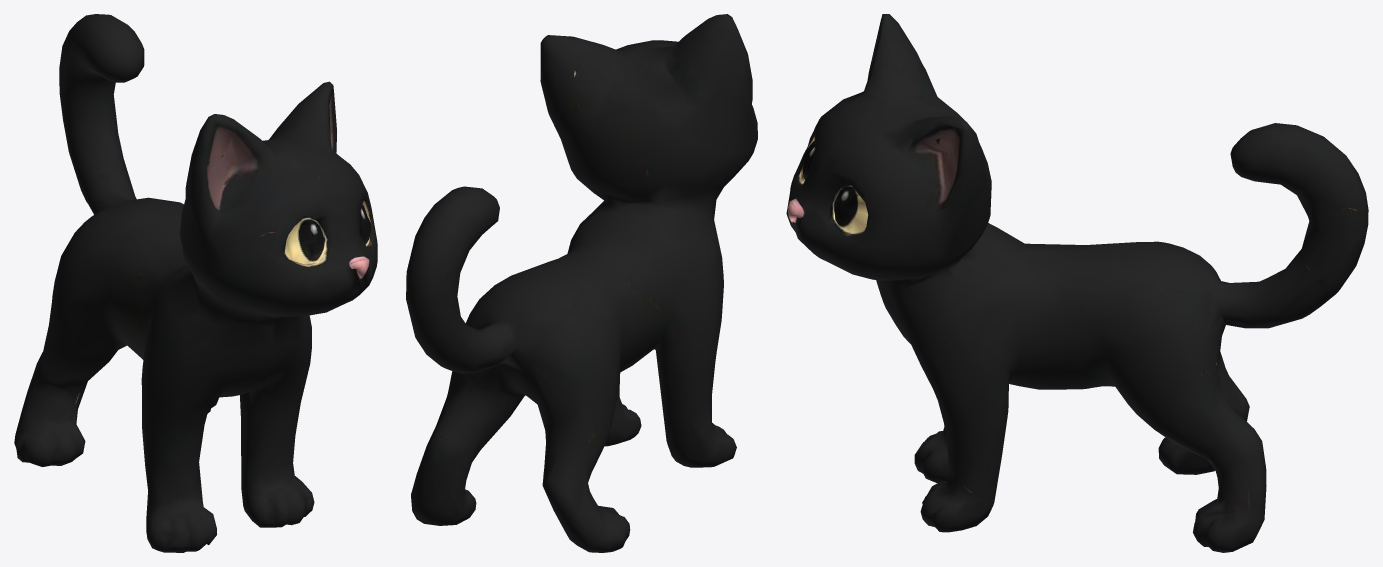
File: cat-meomeo.glb
3 views of the same model, side by side, from view 1: azimuth 30°, elevation 25°; view 2: azimuth 150°, elevation 25°; view 3: azimuth 270°, elevation 25° (orthographic). The views are drawn at different scales.
Bounding box in the file's own units: 0.8188 × 1.66 × 1.9.
Materials: 1 (1 with a texture image).
